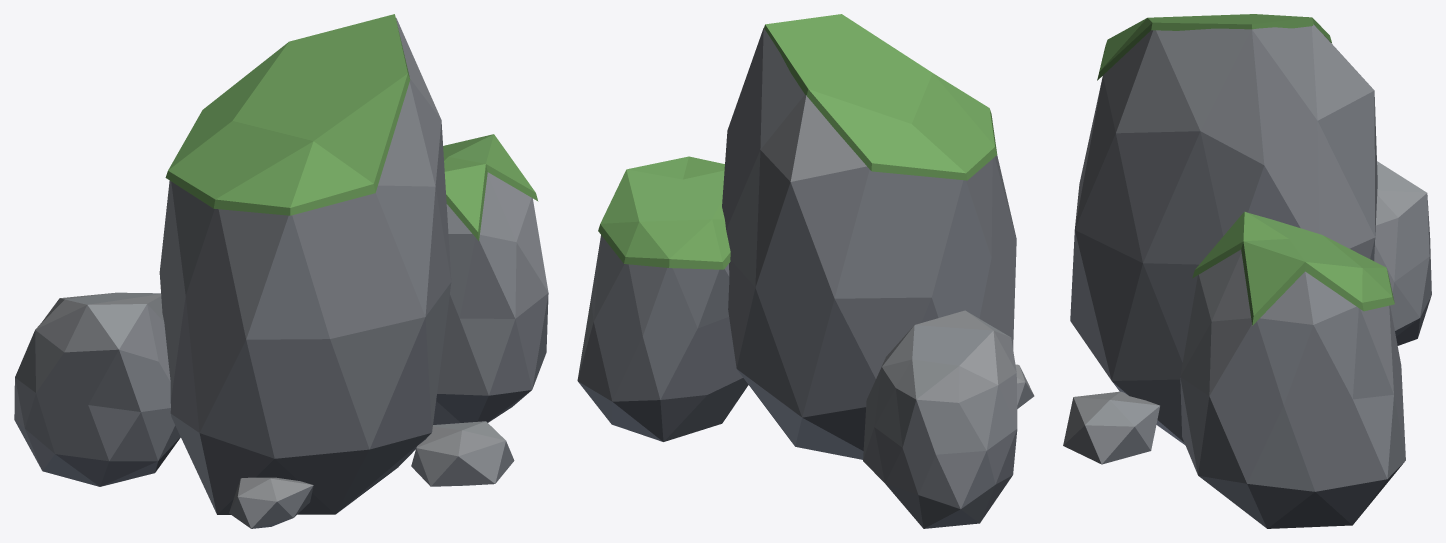
Rendered from rock.glb.
3 renders of one model, left to right at view 1: azimuth 30°, elevation 25°; view 2: azimuth 150°, elevation 25°; view 3: azimuth 270°, elevation 25°, orthographic. The views are drawn at different scales.
Visible parts, largest first — view 1: rock0, rock0_moss, rock2, rock1, pebble51, rock1_moss, pebble53; view 2: rock0, rock2, rock1, rock0_moss, rock1_moss; view 3: rock0, rock1, rock1_moss, rock2, pebble51, rock0_moss.
Part boxes in pixels (x1,y1,x2,y2): rock0: (159,18,451,514); rock0_moss: (165,14,410,215); rock2: (14,292,180,486); rock1: (433,172,548,424); pebble51: (411,421,514,486); rock1_moss: (443,134,538,240); pebble53: (229,477,313,528); rock0: (722,28,1016,459); rock2: (863,310,1017,528); rock1: (577,235,748,441); rock0_moss: (764,14,997,180); rock1_moss: (598,156,730,269); rock0: (1070,24,1377,445); rock1: (1180,249,1405,528); rock1_moss: (1192,212,1394,325); rock2: (1374,161,1431,345); pebble51: (1063,391,1159,464); rock0_moss: (1097,14,1331,80).
Size of the model in its own units: 4.5 by 3.95 by 2.99.
